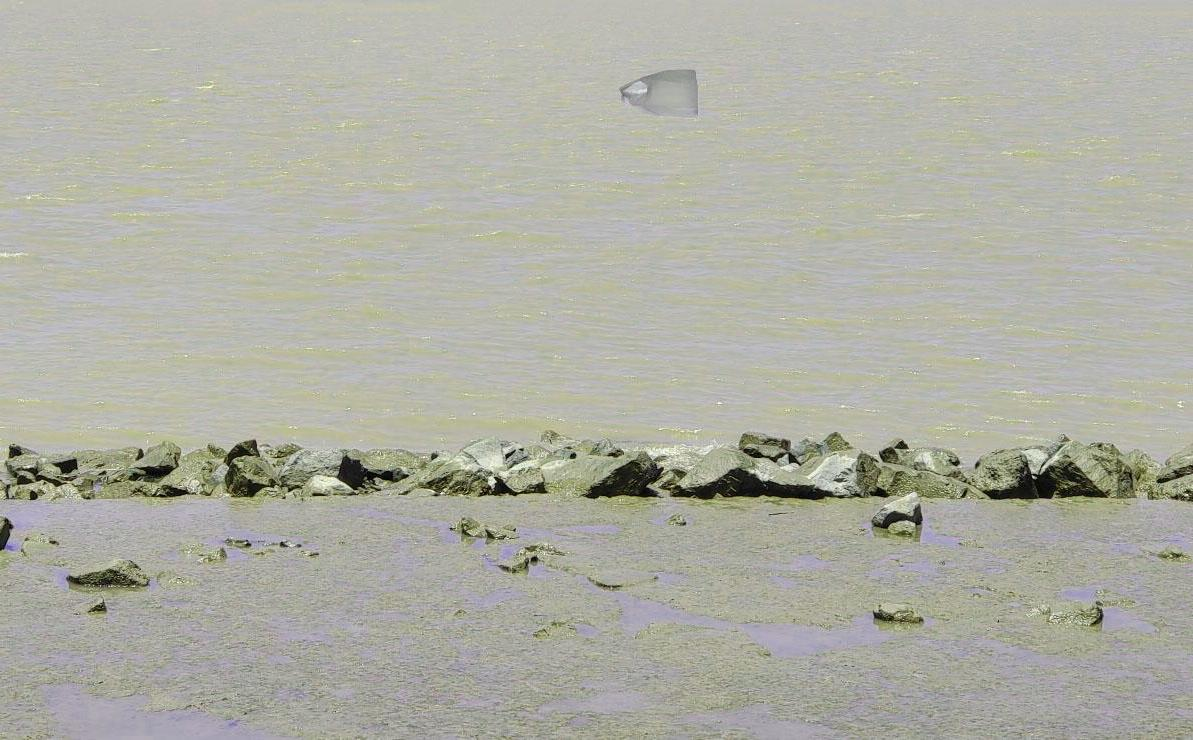Trash: (617, 61, 703, 124)
